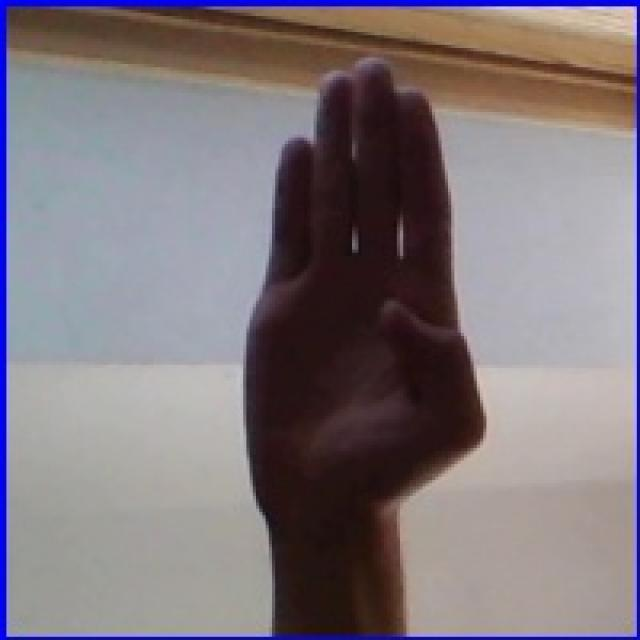Letra B: (219, 45, 502, 602)
